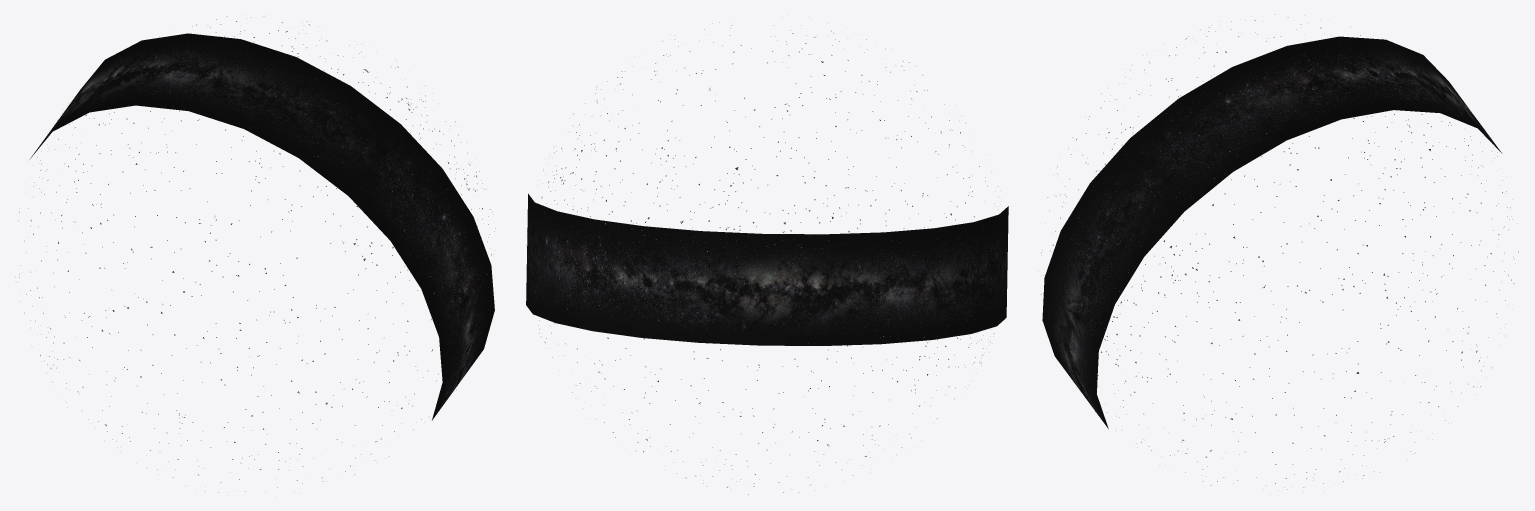
The model's file is Night Sky.glb.
3 renders of one model, left to right at view 1: azimuth 30°, elevation 25°; view 2: azimuth 150°, elevation 25°; view 3: azimuth 270°, elevation 25°, orthographic.
Visible parts, largest first — view 1: STARSPHERE_LOD0; view 2: STARSPHERE_LOD0; view 3: STARSPHERE_LOD0.
Boxes of the visible parts, bbox=[...] form: STARSPHERE_LOD0: bbox=[17, 16, 495, 492]; STARSPHERE_LOD0: bbox=[526, 22, 1008, 494]; STARSPHERE_LOD0: bbox=[1041, 17, 1518, 489].
Bounding box in the file's own units: 20.43 × 19.99 × 19.99.
Materials: 2 (2 with a texture image).
